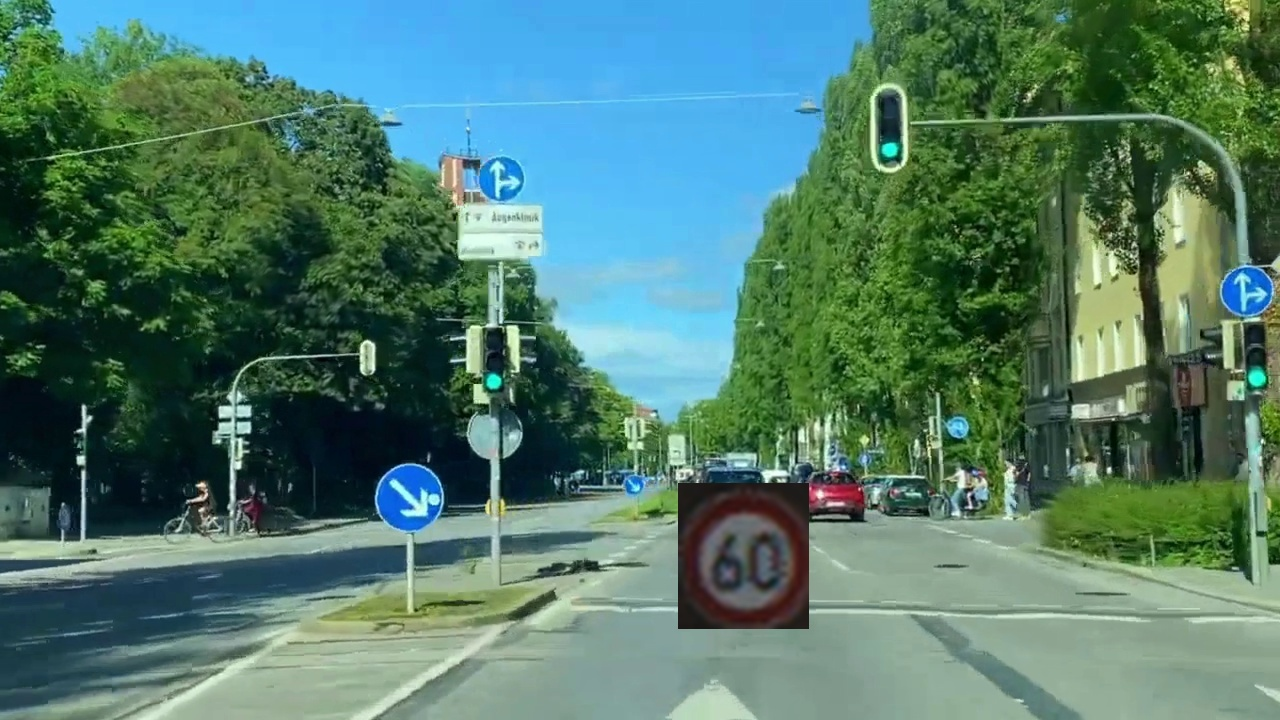Speed 60: (678, 483, 809, 629)
